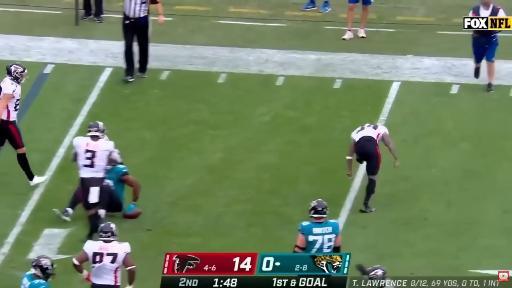Helmet: (32, 256, 55, 281), (356, 264, 386, 279), (7, 63, 27, 83), (98, 222, 117, 240), (309, 200, 328, 217), (87, 122, 105, 137), (367, 266, 386, 279), (108, 150, 122, 167), (111, 150, 122, 163)
Jersey: (84, 241, 130, 285), (73, 137, 114, 177), (299, 220, 339, 253), (0, 78, 21, 120), (105, 164, 128, 202), (351, 124, 389, 142), (21, 272, 50, 287)
Player: (0, 64, 46, 185), (73, 122, 114, 239), (347, 124, 399, 212), (73, 223, 135, 287), (294, 200, 341, 253), (104, 150, 141, 213), (21, 256, 55, 287), (356, 264, 387, 280)
